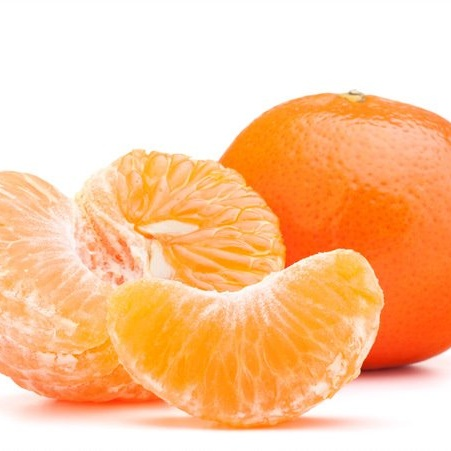mandarin: (1, 150, 285, 406), (217, 94, 451, 371), (111, 249, 383, 422)
